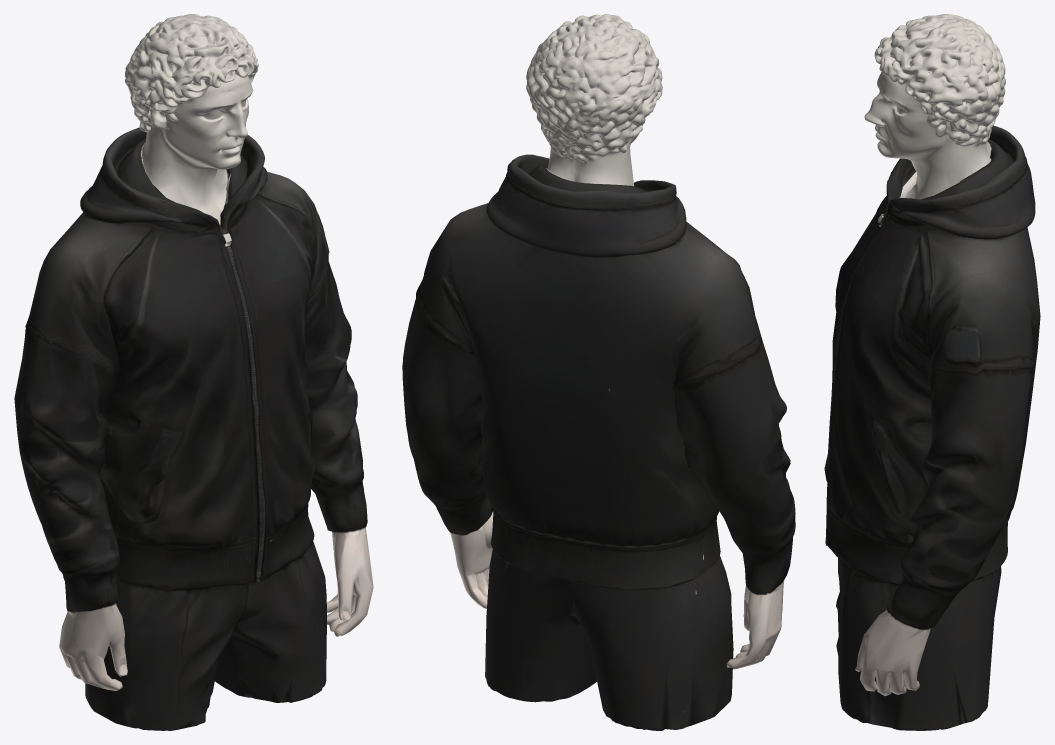
The model's file is hoodie-sculpture-hem.glb.
3 views of the same model, side by side, from view 1: azimuth 30°, elevation 25°; view 2: azimuth 150°, elevation 25°; view 3: azimuth 270°, elevation 25° (orthographic). The views are drawn at different scales.
Visible parts, largest first — view 1: model; view 2: model; view 3: model.
Part boxes in pixels (x1,y1,x2,y2): model: (14, 14, 373, 730); model: (402, 14, 795, 730); model: (824, 14, 1040, 730).
Size of the model in its own units: 1.03 by 1.9 by 0.5652.
Materials: 2 (1 with a texture image).
